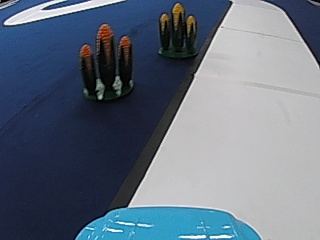corn: (79, 23, 136, 103), (154, 1, 199, 59)
